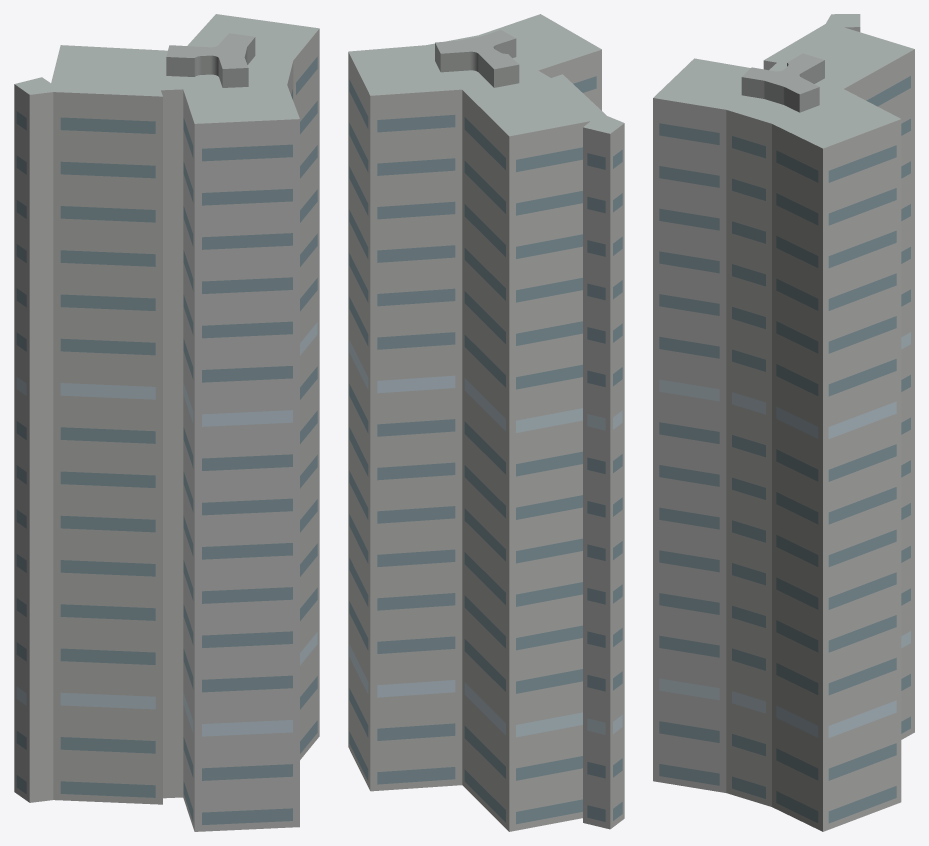
File: fallback-gangdong-lotte-castle-first-104.glb
The picture shows the model from 3 angles, left to right: view 1: azimuth 30°, elevation 25°; view 2: azimuth 150°, elevation 25°; view 3: azimuth 270°, elevation 25°; orthographic projection. The views are drawn at different scales.
Parts seen in each view (by area): view 1: fallback-gangdong-lotte-castle-first-104; view 2: fallback-gangdong-lotte-castle-first-104; view 3: fallback-gangdong-lotte-castle-first-104.
Boxes of the visible parts, x1,y1,x2,y2 form: fallback-gangdong-lotte-castle-first-104: (14,14,319,831); fallback-gangdong-lotte-castle-first-104: (348,14,624,831); fallback-gangdong-lotte-castle-first-104: (653,14,914,831).
Bounding box in the file's own units: 37.91 × 92 × 31.12.
